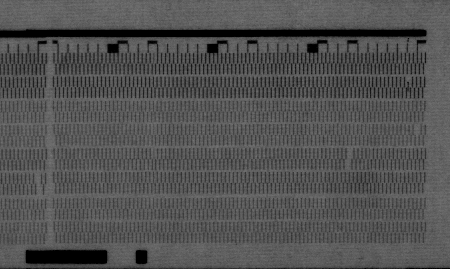Broken hole: (342, 147, 356, 171), (32, 172, 45, 195), (412, 123, 424, 137)
Oblique printing: (403, 76, 414, 92)
